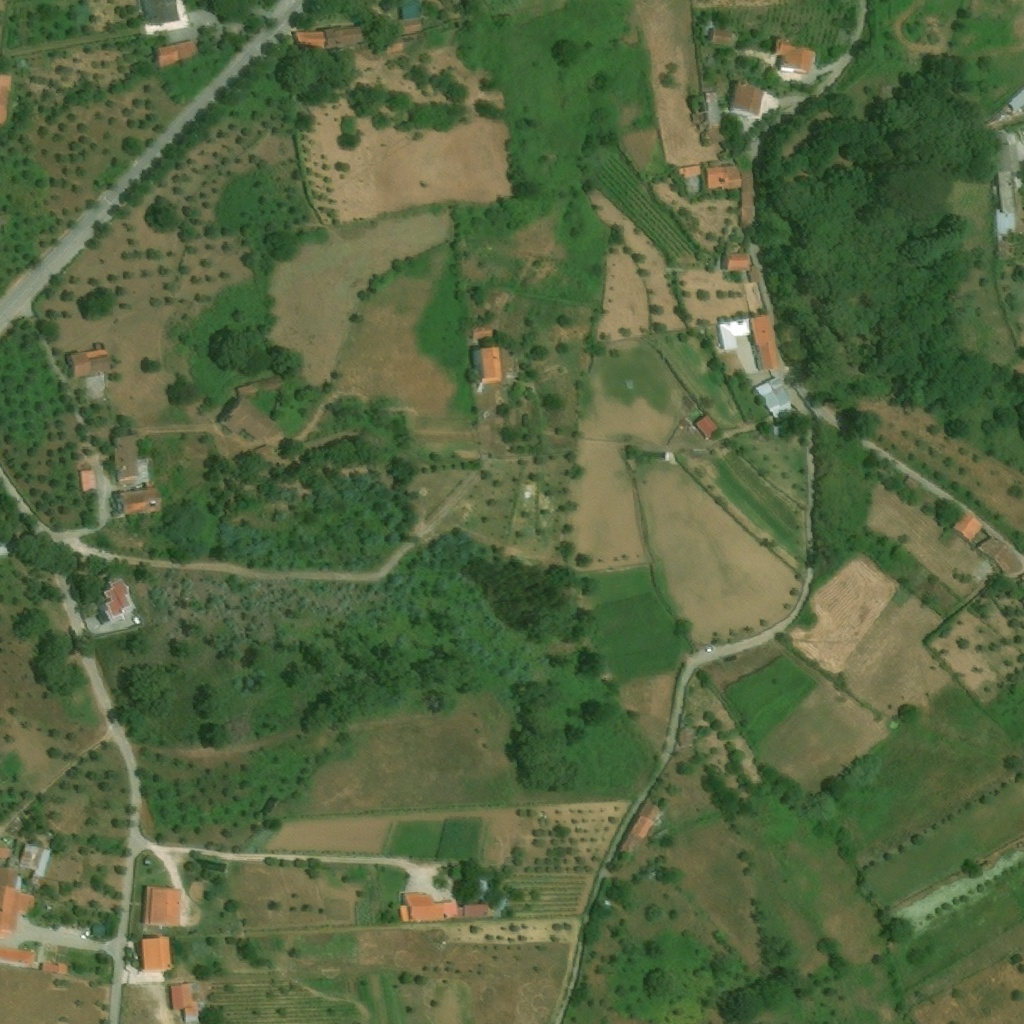0 no-damage: (0, 836, 53, 938), (294, 18, 425, 51), (400, 892, 495, 925), (221, 395, 279, 443), (616, 799, 661, 857), (753, 375, 796, 421), (750, 313, 782, 373), (113, 435, 151, 485), (141, 885, 184, 928), (978, 536, 1023, 577), (66, 341, 110, 379), (773, 37, 815, 73), (156, 39, 200, 71), (730, 80, 766, 117), (168, 982, 200, 1023), (102, 577, 132, 619), (952, 508, 986, 545), (138, 935, 172, 971), (472, 346, 505, 383), (113, 488, 155, 517), (717, 316, 751, 350), (696, 91, 721, 127), (707, 165, 743, 189), (693, 412, 721, 438), (0, 945, 36, 965), (679, 165, 702, 194), (743, 172, 755, 227), (722, 254, 751, 272), (708, 27, 734, 44), (398, 0, 421, 19), (79, 469, 97, 492), (39, 962, 68, 976), (904, 474, 923, 491), (237, 383, 258, 395), (472, 329, 494, 340), (749, 265, 761, 282), (91, 924, 106, 936)
4 un-classified: (141, 0, 180, 24), (0, 74, 13, 126), (0, 531, 21, 558)
